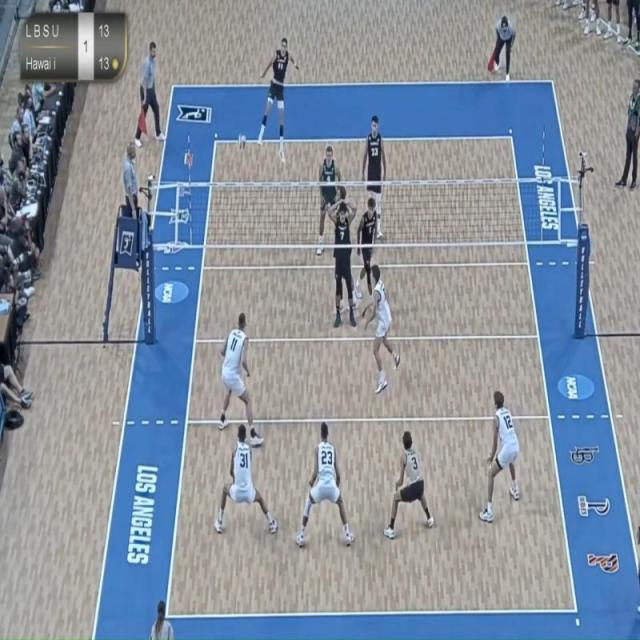volleyball: (234, 129, 248, 154)
